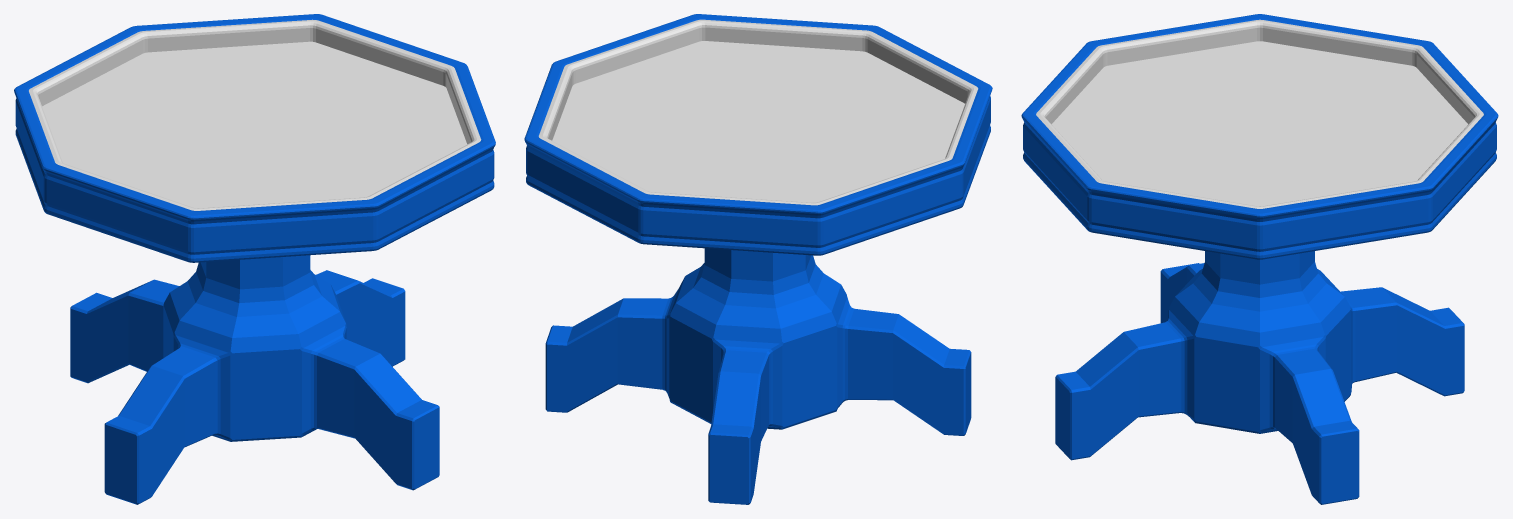
The model's file is Poker Table LP.fbx.
3 views of the same model, side by side, from view 1: azimuth 30°, elevation 25°; view 2: azimuth 150°, elevation 25°; view 3: azimuth 270°, elevation 25° (orthographic). The views are drawn at different scales.
Parts seen in each view (by area): view 1: Cube.076; view 2: Cube.076; view 3: Cube.076.
Part boxes in pixels (x1,y1,x2,y2): Cube.076: [14, 14, 495, 504]; Cube.076: [524, 14, 992, 504]; Cube.076: [1021, 14, 1498, 504].
Bounding box in the file's own units: 240 × 169 × 240.
